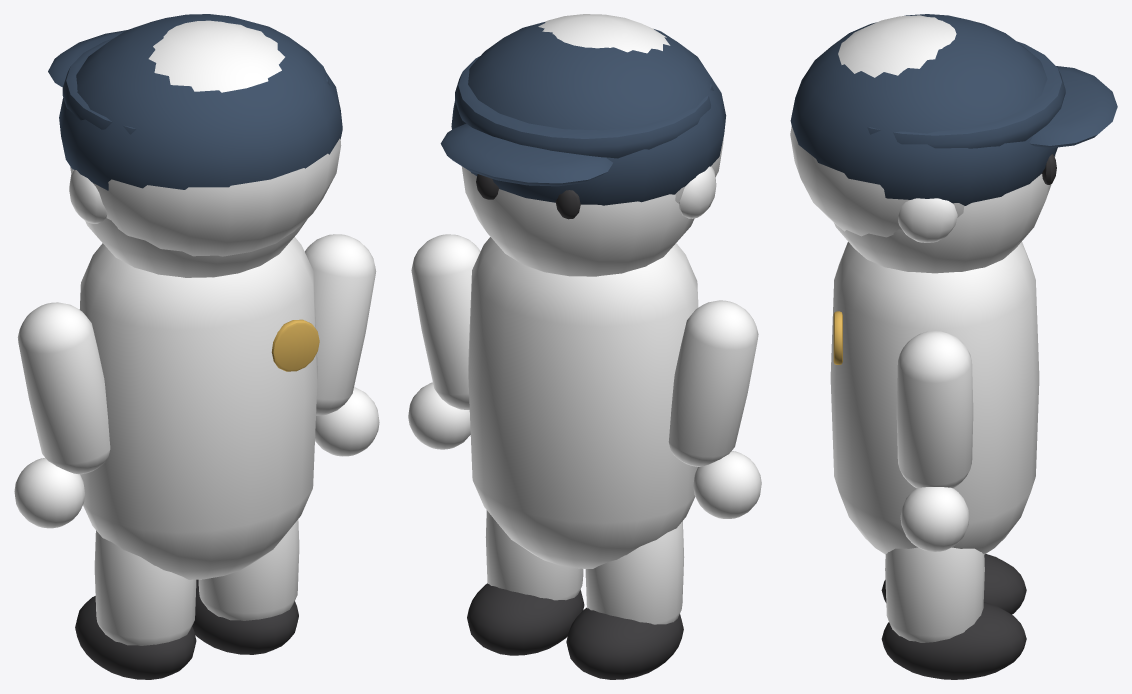
Rendered from person.glb.
The picture shows the model from 3 angles, left to right: view 1: azimuth 30°, elevation 25°; view 2: azimuth 150°, elevation 25°; view 3: azimuth 270°, elevation 25°; orthographic projection. The views are drawn at different scales.
Parts seen in each view (by area): view 1: outfit, navy_staff, hair, outfit_arms, outfit_legs, shoes_legs, skin_arms, skin, gold_staff; view 2: outfit, navy_staff, outfit_arms, skin, shoes_legs, outfit_legs, skin_arms, hair, shoes; view 3: outfit, navy_staff, outfit_arms, skin, hair, outfit_legs, shoes_legs, skin_arms, gold_staff.
Boxes of the visible parts, x1,y1,x2,y2 form: outfit: (79, 237, 317, 579); navy_staff: (48, 14, 342, 190); hair: (72, 20, 341, 256); outfit_arms: (17, 234, 376, 474); outfit_legs: (94, 519, 299, 645); shoes_legs: (75, 579, 298, 679); skin_arms: (14, 387, 379, 528); skin: (69, 167, 307, 277); gold_staff: (271, 319, 319, 371); outfit: (468, 237, 698, 568); navy_staff: (440, 22, 726, 205); outfit_arms: (411, 234, 758, 466); skin: (461, 166, 716, 276); shoes_legs: (467, 583, 683, 679); outfit_legs: (485, 510, 684, 624); skin_arms: (408, 382, 761, 518); hair: (538, 14, 723, 203); shoes: (476, 174, 580, 219); outfit: (830, 242, 1039, 554); navy_staff: (790, 14, 1117, 205); outfit_arms: (896, 331, 973, 488); skin: (834, 155, 1055, 273); hair: (790, 15, 964, 237); outfit_legs: (885, 547, 984, 642); shoes_legs: (881, 554, 1026, 679); skin_arms: (900, 487, 969, 551); gold_staff: (833, 311, 842, 364).
Bounding box in the file's own units: 0.52 × 0.8904 × 0.4266.
